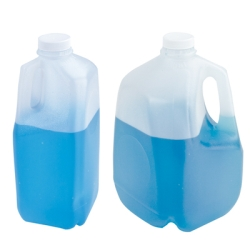Rec_Plastic: (107, 32, 243, 231), (7, 32, 97, 224)
